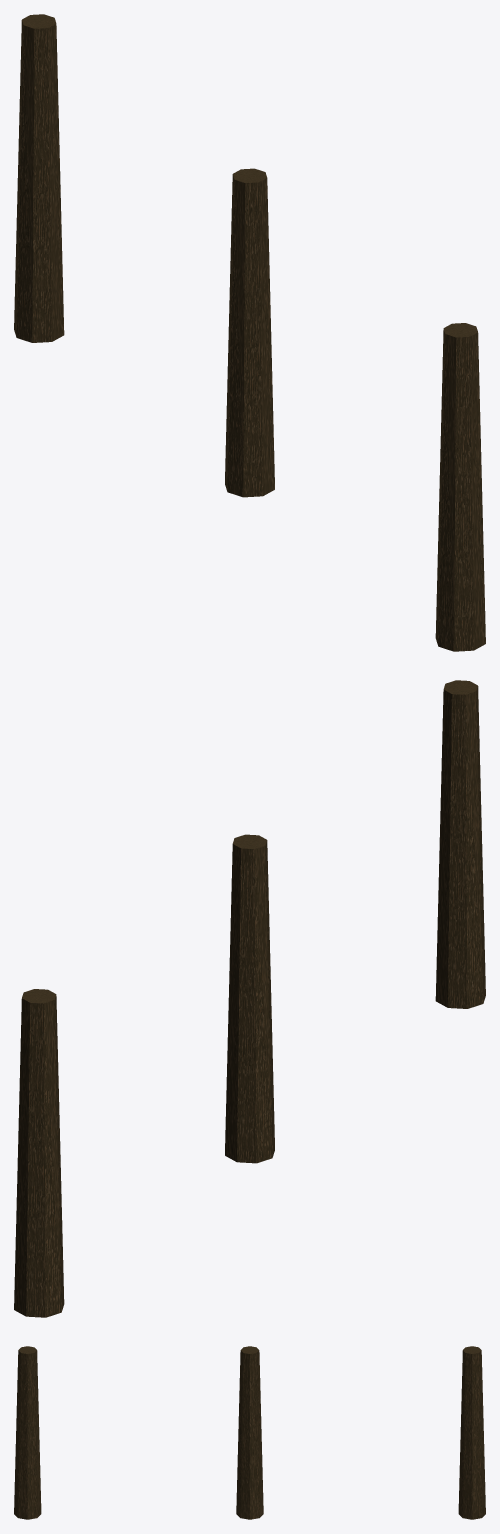
The picture shows the model from 3 angles, top to bottom: view 1: azimuth 30°, elevation 25°; view 2: azimuth 150°, elevation 25°; view 3: azimuth 270°, elevation 25°; orthographic projection. The views are drawn at different scales.
Visible parts, largest first — view 1: Postes_de_madera.002; view 2: Postes_de_madera.002; view 3: Postes_de_madera.002.
Part boxes in pixels (x1,y1,x2,y2): Postes_de_madera.002: (14, 14, 485, 651); Postes_de_madera.002: (14, 680, 485, 1317); Postes_de_madera.002: (14, 1346, 485, 1519).
Bounding box in the file's own units: 0.134 × 0.883 × 2.3.
1 material, 1 textured.
